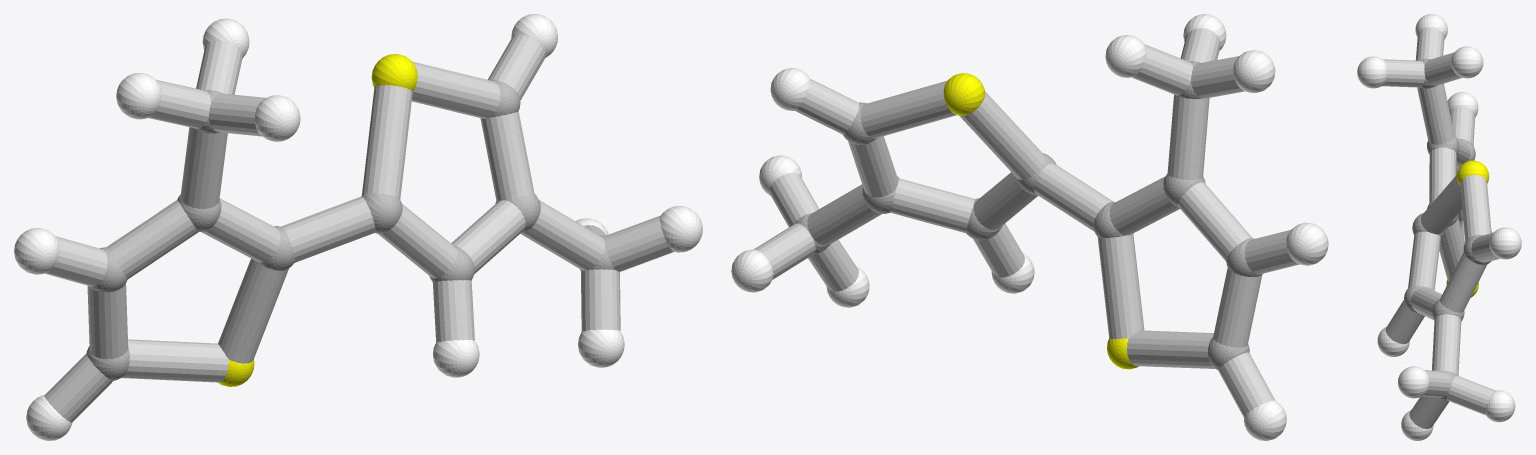
The model's file is Methylthiophene_Phi_30_Theta_330_Methylthiophene.glb.
3 renders of one model, left to right at view 1: azimuth 30°, elevation 25°; view 2: azimuth 150°, elevation 25°; view 3: azimuth 270°, elevation 25°, orthographic. The views are drawn at different scales.
Visible parts, largest first — view 1: grp7965, grp3621, grp1, grp7241; view 2: grp7965, grp3621, grp1, grp7241; view 3: grp7965, grp3621, grp1, grp7241.
Boxes of the visible parts, bbox=[...] form: grp7965: bbox=[44, 34, 673, 422]; grp3621: bbox=[14, 14, 702, 440]; grp1: bbox=[86, 79, 614, 380]; grp7241: bbox=[218, 54, 417, 386]; grp7965: bbox=[754, 28, 1299, 417]; grp3621: bbox=[731, 14, 1328, 440]; grp1: bbox=[794, 61, 1262, 370]; grp7241: bbox=[943, 73, 1138, 369]; grp7965: bbox=[1382, 27, 1499, 428]; grp3621: bbox=[1357, 14, 1521, 440]; grp1: bbox=[1404, 59, 1491, 400]; grp7241: bbox=[1446, 160, 1489, 297].
Size of the model in its own units: 9.57 by 5.67 by 3.05.
